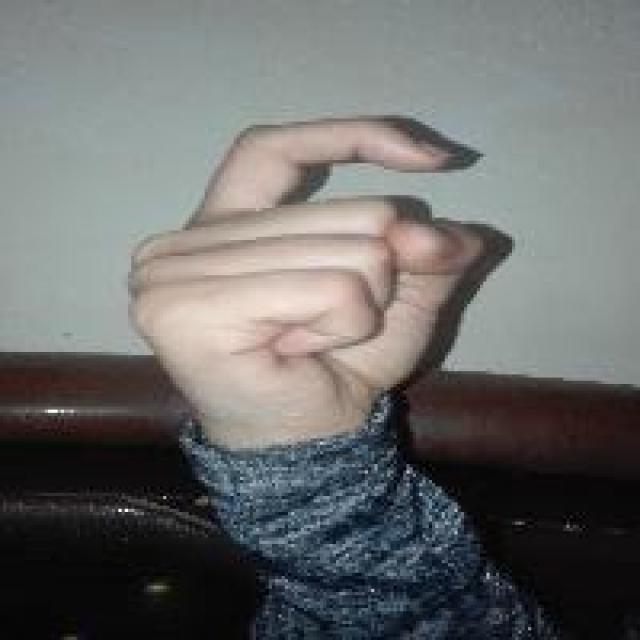X: (130, 114, 484, 443)
